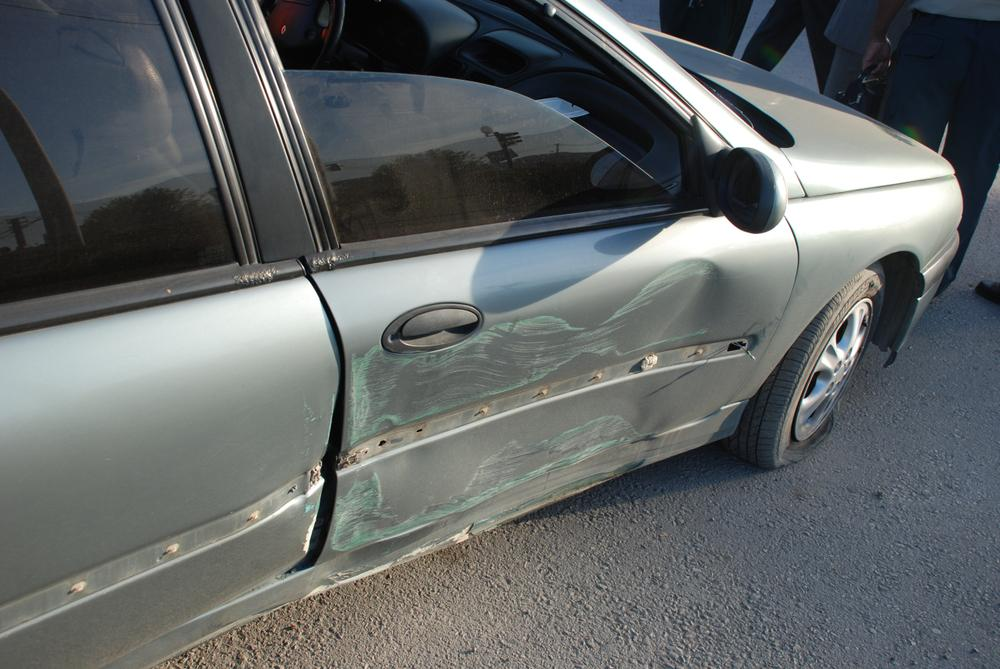dent: (319, 261, 772, 580)
